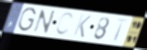8: (94, 16, 111, 41)
C: (54, 11, 75, 37)
G: (17, 7, 37, 33)
K: (71, 13, 93, 39)
N: (32, 8, 58, 35)
T: (112, 18, 129, 44)
